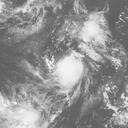cyclone: (49, 49, 87, 91)
